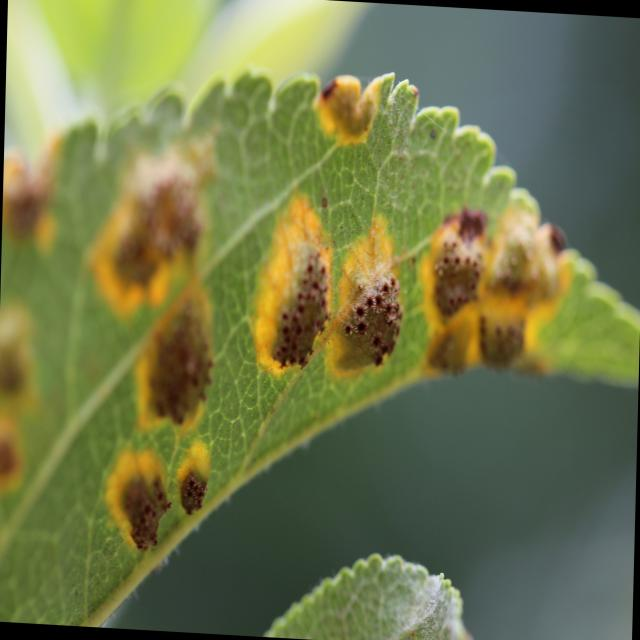Gymnosporangium_Rusts: (16, 88, 626, 552)
